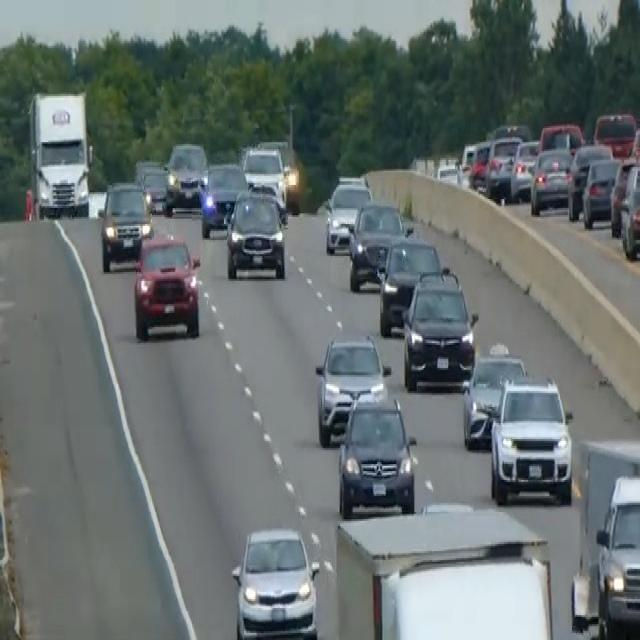car: (230, 524, 320, 638), (337, 391, 417, 517), (401, 267, 478, 391), (314, 331, 390, 446), (132, 231, 201, 341), (462, 341, 526, 450), (378, 235, 441, 336), (347, 197, 409, 290), (225, 188, 286, 281), (98, 178, 153, 272), (198, 158, 248, 238), (324, 175, 372, 252), (566, 140, 612, 220), (529, 144, 573, 215), (241, 142, 287, 208), (165, 139, 208, 208), (581, 154, 620, 228), (609, 154, 638, 236), (485, 133, 521, 199), (592, 108, 636, 156), (619, 162, 639, 260), (510, 137, 540, 201), (140, 165, 174, 215), (538, 121, 584, 155), (468, 139, 491, 190), (458, 139, 477, 185), (134, 156, 163, 185)
jeep: (487, 373, 574, 507)
lorry: (27, 87, 93, 221)
truck: (595, 471, 639, 638)
